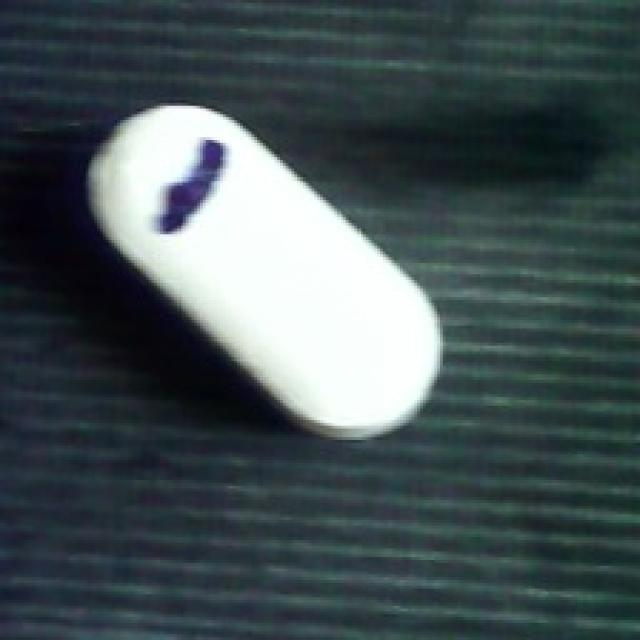defected: (83, 99, 448, 443)
